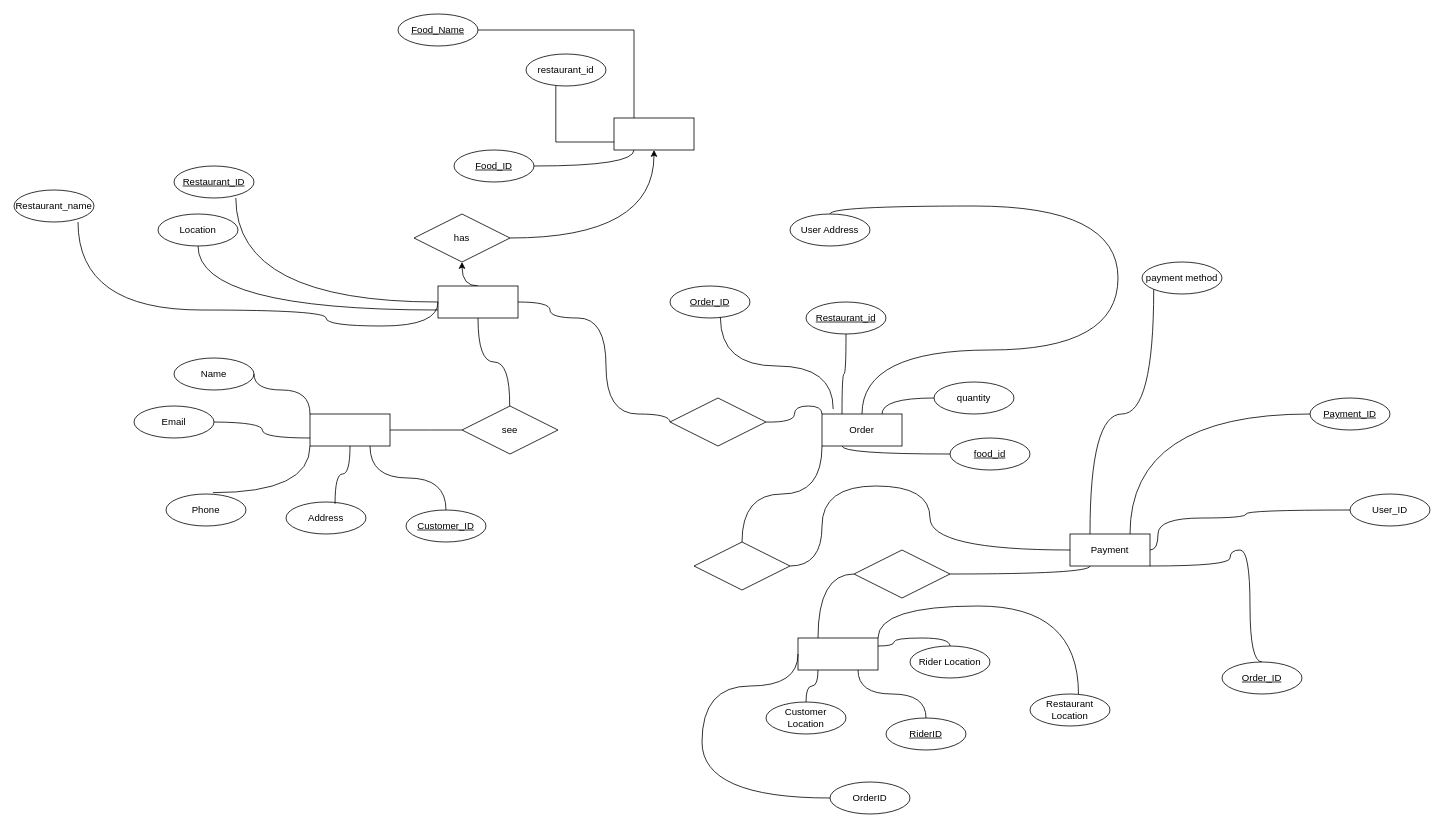
The diagram is 1444 pixels wide and 828 high, and some of its shapes have lost their labels. Each missing label, with the centre of its shape:
buy: the point at 717,421
Customer: the point at 349,429
Make: the point at 741,565
Menu: the point at 653,133
Restaurant: the point at 477,301
Rider: the point at 837,653
send information to: the point at 901,573
